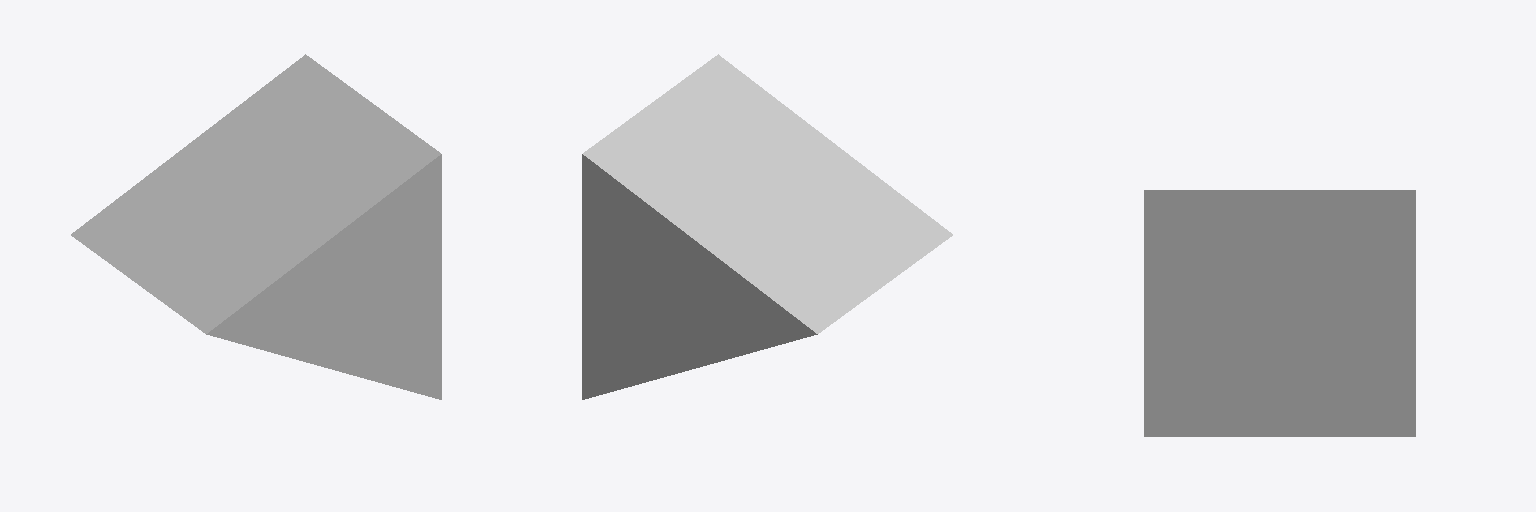
The model's file is cheese.obj.
The picture shows the model from 3 angles: view 1: azimuth 30°, elevation 25°; view 2: azimuth 150°, elevation 25°; view 3: azimuth 270°, elevation 25°; orthographic projection.
Visible parts, largest first — view 1: Plane; view 2: Plane; view 3: Plane.
Boxes of the visible parts, x1=… form: Plane: x1=71, y1=54, x2=441, y2=399; Plane: x1=582, y1=54, x2=952, y2=399; Plane: x1=1144, y1=190, x2=1415, y2=436.
Size of the model in its own units: 2 by 2 by 2.